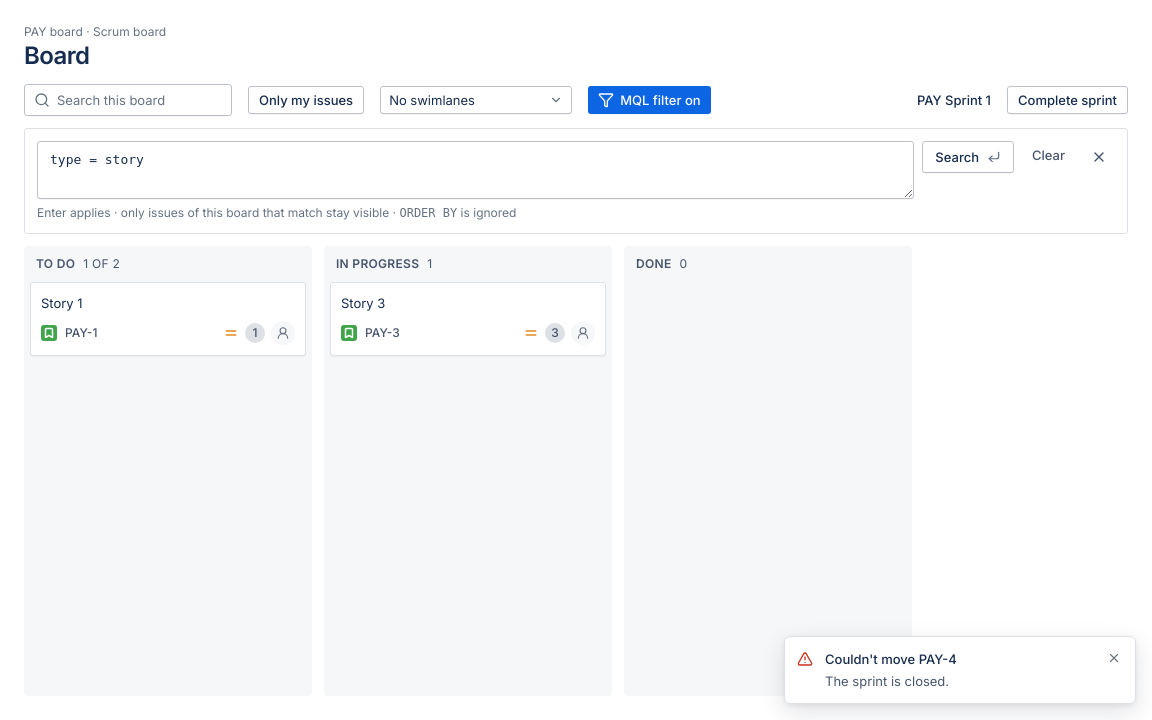
filtering the board and backlog with MQL › keeps only matching cards on the board, with the query in the URL
This screenshot has width=1152, height=720.
Check: the text "PAY-2" is not shown
Check: the link "PAY-1" is shown, box [65,325,97,341]
Click the button "Clear" at (1048, 155), box [1022,141,1075,169]
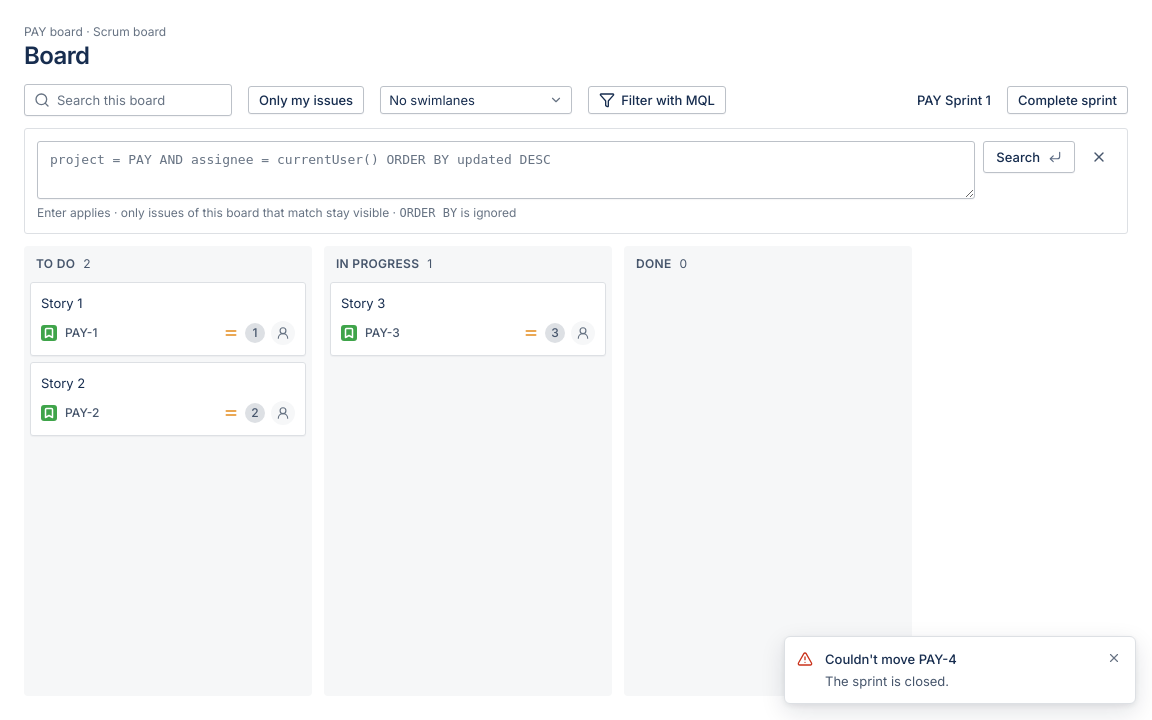
Check: the link "PAY-2" is shown, box [65,405,99,421]
